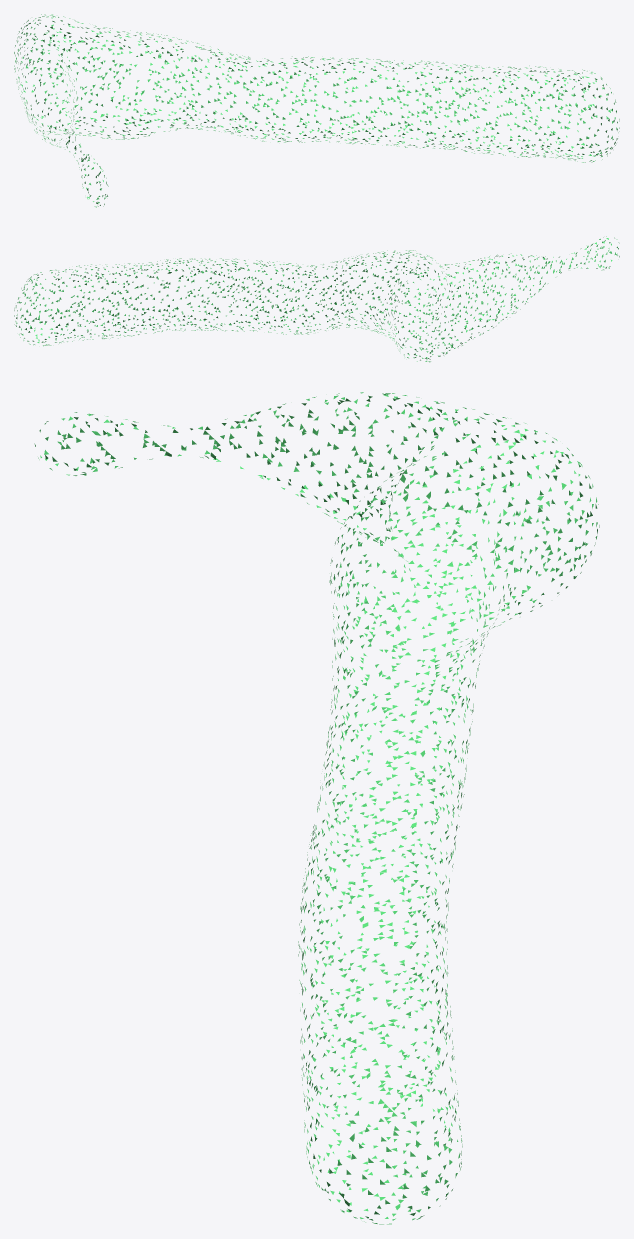
The model's file is morph_020.glb.
3 renders of one model, top to bottom at view 1: azimuth 30°, elevation 25°; view 2: azimuth 150°, elevation 25°; view 3: azimuth 270°, elevation 25°, orthographic. The views are drawn at different scales.
Size of the model in its own units: 145 by 53.09 by 69.3.
